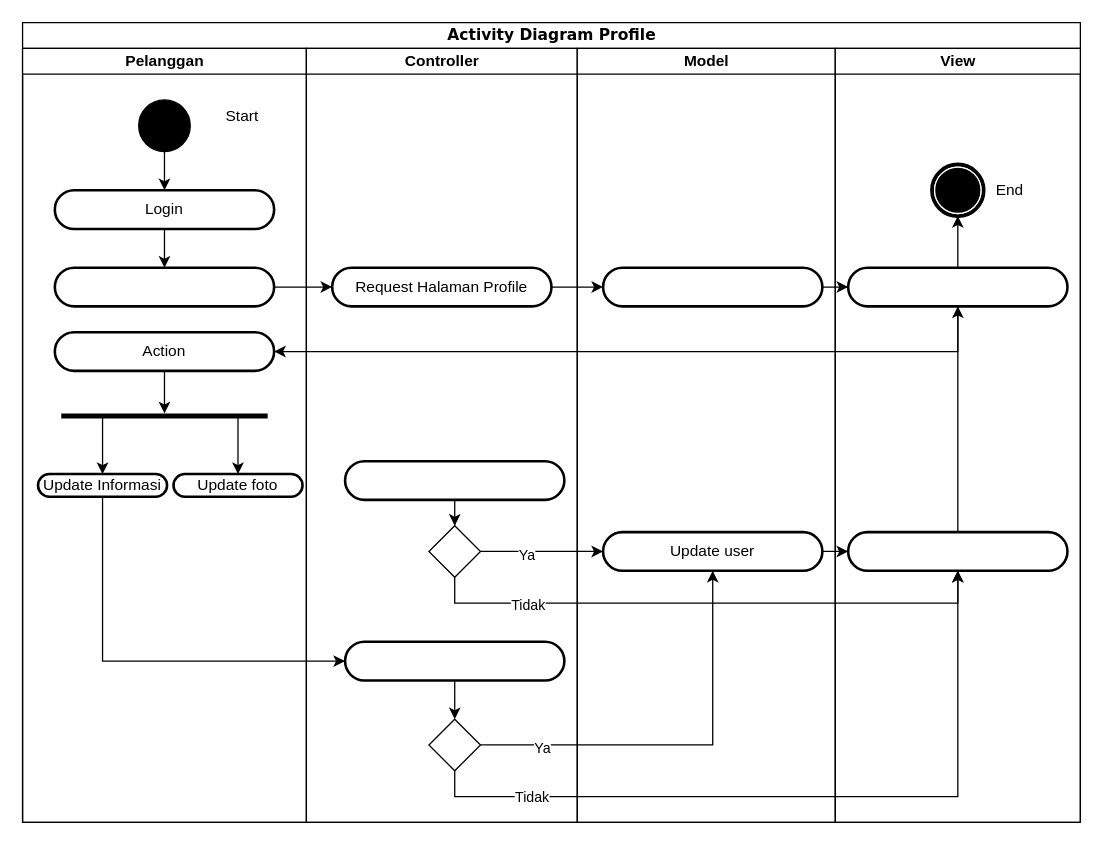
The diagram is 1103 pixels wide and 845 high, and some of its shapes have lost their labels. The shapes that lost their labels are listed below. From the top down, each one's centre as x and y in pixels, then its label:
At point (164, 286): "Memilih Menu Profile".
At point (712, 286): "Get Data User Yang Login".
At point (957, 286): "Halaman Profile".
At point (454, 480): "Validasi tipe file foto atau tidak".
At point (957, 550): "Menampilkan Pesan".
At point (454, 660): "Validasi request".
